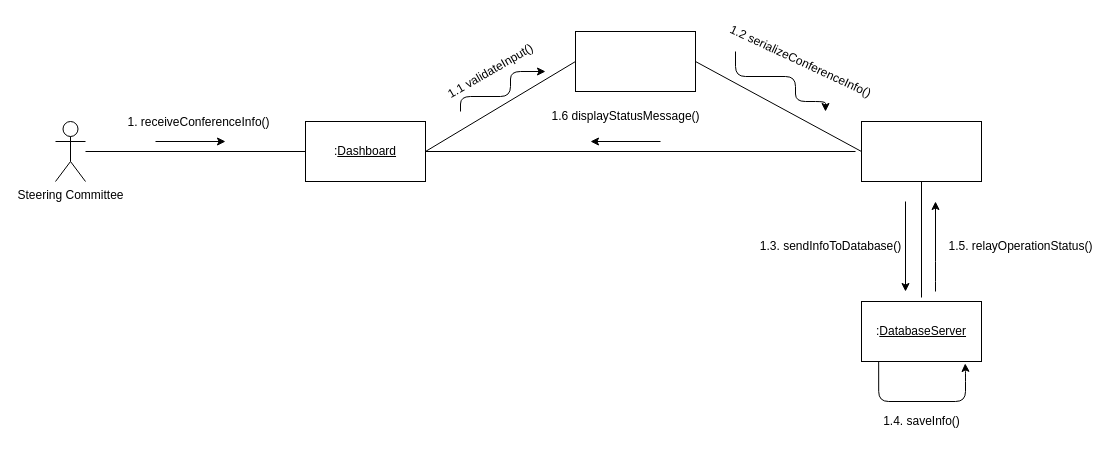
The diagram is 1117 pixels wide and 449 high, and some of its shapes have lost their labels. The centre of each missing label's shape, as x and y in pixels:
": BackendService" goes at pixel 921 151.
":InputValidator" goes at pixel 635 61.
